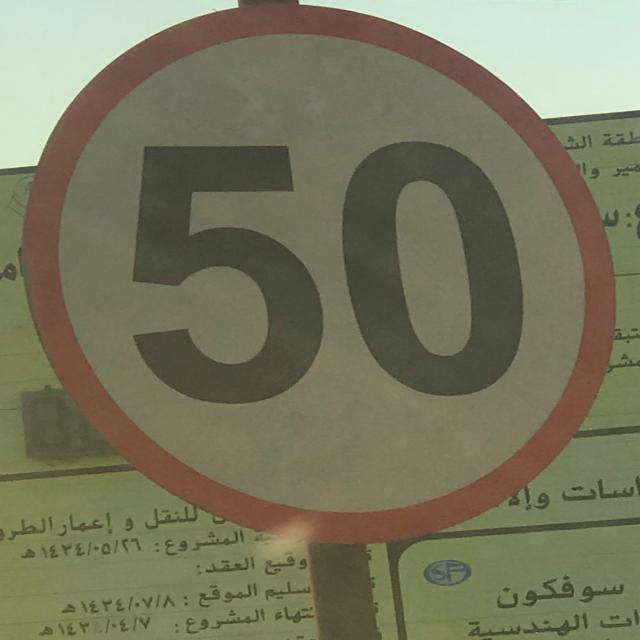Limite-50: (17, 2, 617, 546)
